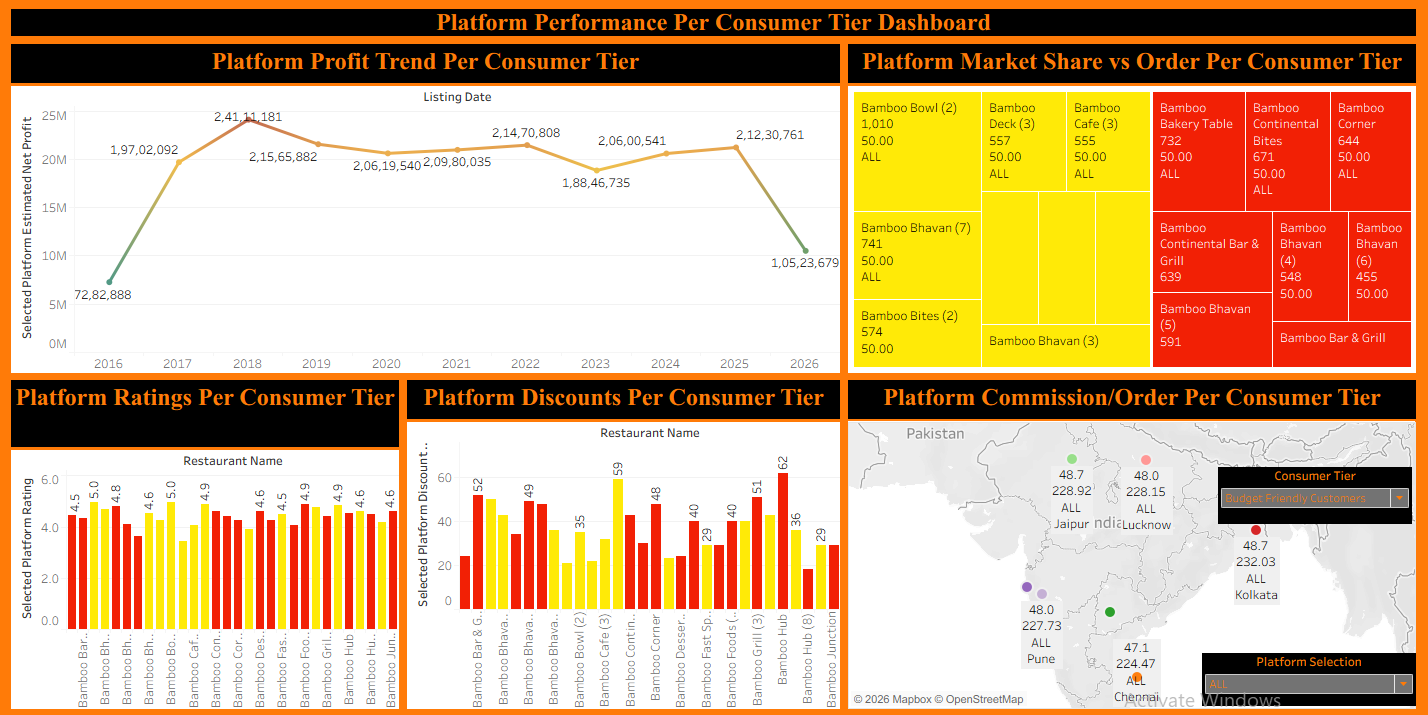

The dashboard page shown, as its layout file describes it:
{"tool":"tableau","page":{"name":"Platform Performance Per Consumer Tier Dashboard","canvas":[1000,1000],"units":"permille","ordinal":2},"visuals":[{"type":"title","box":[5.8,11.1,988.5,48.3]},{"type":"worksheet","title":"Platform Profit Trend Per Consumer Tier","mark":"Automatic","rows":["Calculation_0740288849022978"],"cols":["Listing Date"],"box":[5.8,59.4,585.3,464.8]},{"type":"worksheet","title":"Platform Market Share vs Order Per Consumer Tier","mark":"Automatic","box":[591,59.4,403.2,464.8]},{"type":"worksheet","title":"Platform Ratings Per Consumer Tier","mark":"Automatic","rows":["Calculation_0562167625850883"],"cols":["Restaurant Name"],"box":[5.8,524.2,276.8,464.8]},{"type":"worksheet","title":"Platform Discounts Per Consumer Tier","mark":"Automatic","rows":["Calculation_0811207704080390"],"cols":["Restaurant Name"],"box":[282.6,524.2,308.5,464.8]},{"type":"worksheet","title":"Platform Commission/Order Per Consumer Tier","mark":"Automatic","box":[591,524.2,403.2,464.8]},{"type":"parameter","param":"[Parameters].[Parameter 1]","box":[852.8,648.6,135.9,79.4]},{"type":"parameter","param":"[Parameters].[Parameter 2]","box":[841.6,905.4,149.8,74.3]}]}

Visuals, with their boxes on the dashboard's canvas, which has no fixed pixel size, in thousandths of its width and height (x1, y1, x2, y2). These are canvas units, not pixel positions in the 1428x715 screenshot, which may show the page scaled, cropped or inside an application window:
title: 6, 11, 994, 59
"Platform Profit Trend Per Consumer Tier" worksheet: 6, 59, 591, 524
"Platform Market Share vs Order Per Consumer Tier" worksheet: 591, 59, 994, 524
"Platform Ratings Per Consumer Tier" worksheet: 6, 524, 283, 989
"Platform Discounts Per Consumer Tier" worksheet: 283, 524, 591, 989
"Platform Commission/Order Per Consumer Tier" worksheet: 591, 524, 994, 989
parameter: 853, 649, 989, 728
parameter: 842, 905, 991, 980
